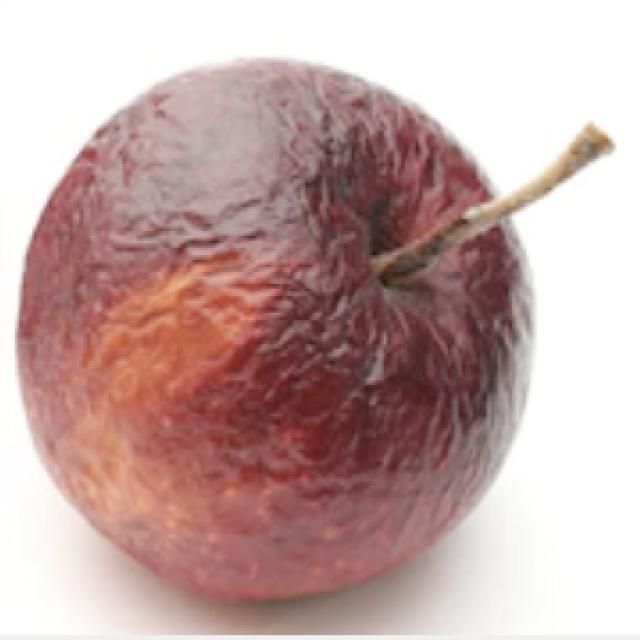Rotten: (15, 55, 540, 605)
